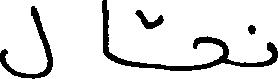X: (0, 1, 51, 78), (193, 31, 225, 74), (103, 0, 107, 78), (269, 37, 277, 69)
